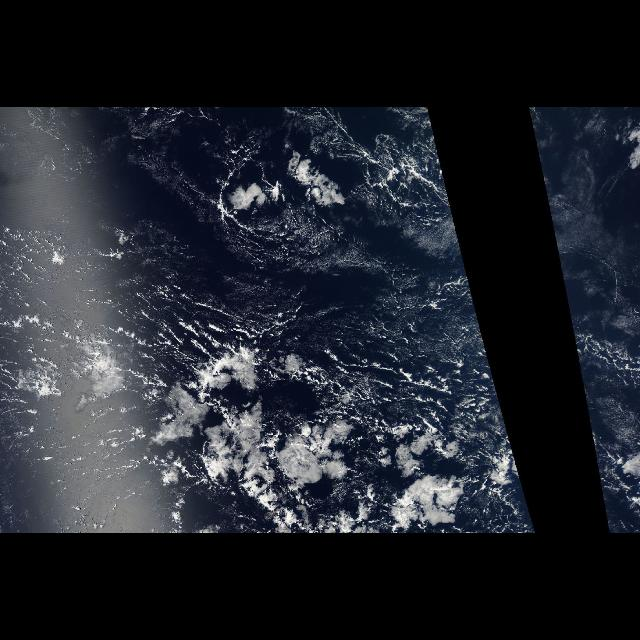Sugar: (351, 208, 491, 372), (548, 208, 640, 372)
